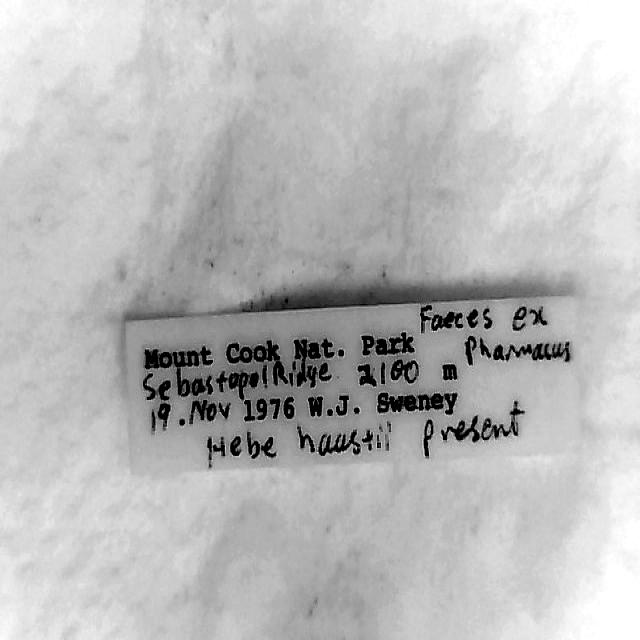mixed_label: (126, 297, 578, 472)
